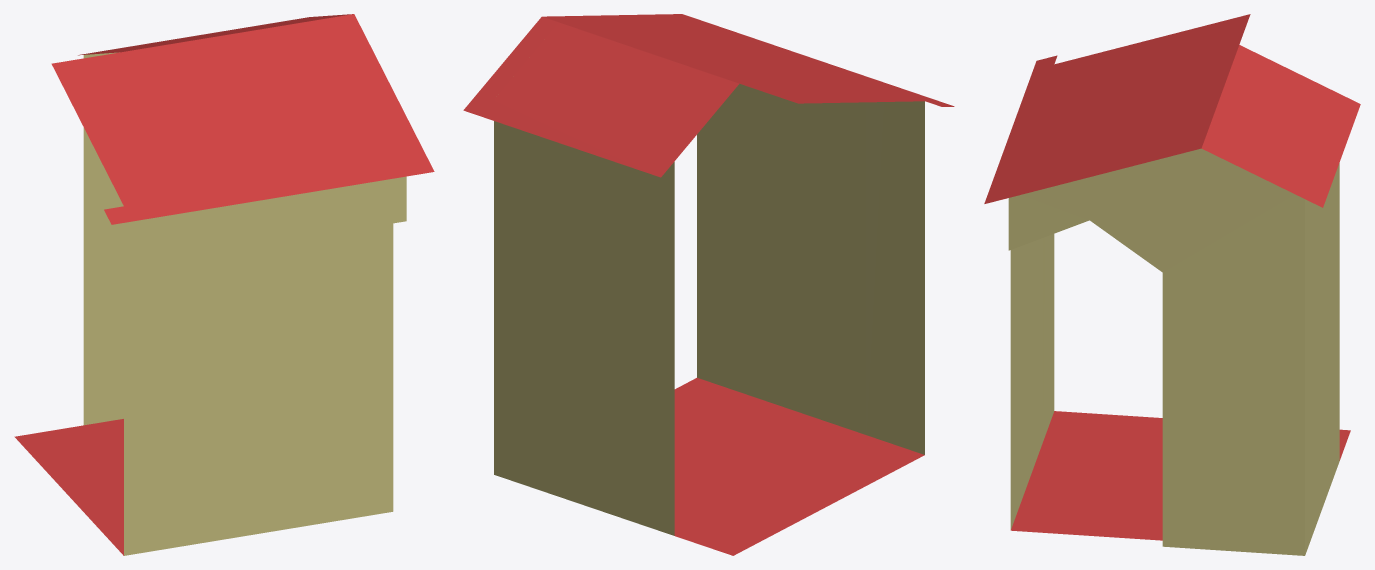
The picture shows the model from 3 angles, left to right: view 1: azimuth 30°, elevation 25°; view 2: azimuth 150°, elevation 25°; view 3: azimuth 270°, elevation 25°; orthographic projection. The views are drawn at different scales.
Bounding box in the file's own units: 9.16 × 8.81 × 10.57.
